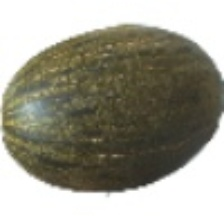honeydew: (18, 25, 162, 201)
